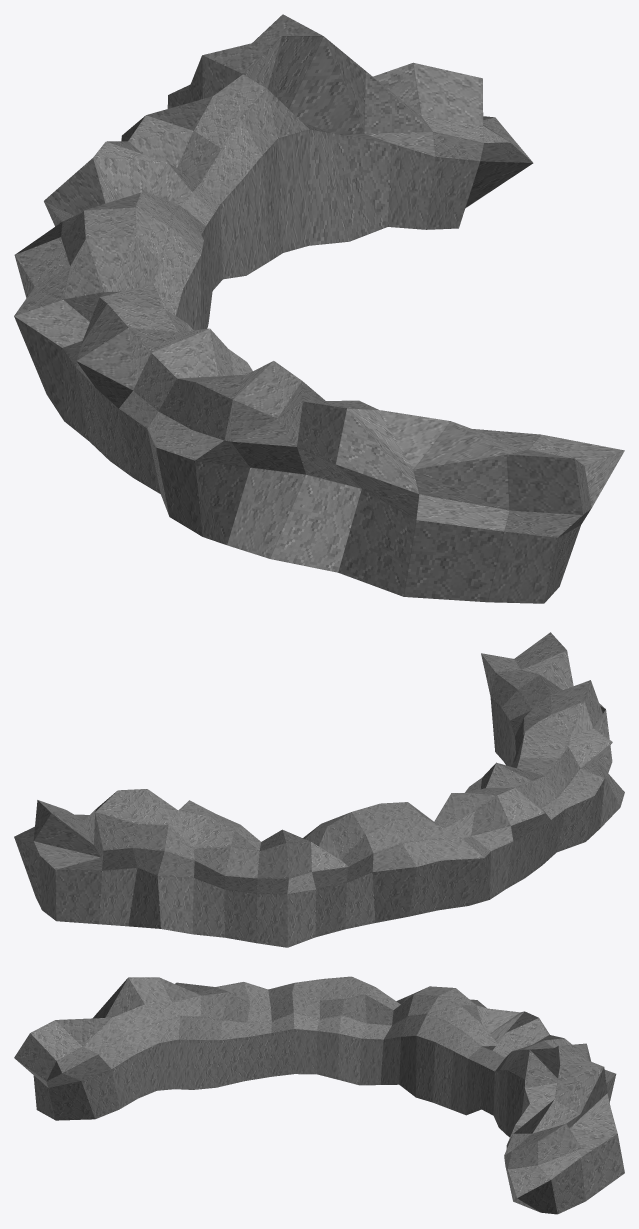
The model's file is Mountains.fbx.
3 renders of one model, top to bottom at view 1: azimuth 30°, elevation 25°; view 2: azimuth 150°, elevation 25°; view 3: azimuth 270°, elevation 25°, orthographic. The views are drawn at different scales.
Visible parts, largest first — view 1: Mountains; view 2: Mountains; view 3: Mountains.
Part boxes in pixels (x1,y1,x2,y2): Mountains: [14, 14, 624, 603]; Mountains: [14, 632, 624, 947]; Mountains: [14, 976, 624, 1214].
Size of the model in its own units: 783 by 248 by 1140.
1 material, 1 textured.
